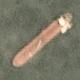ship: (0, 0, 32, 31)
